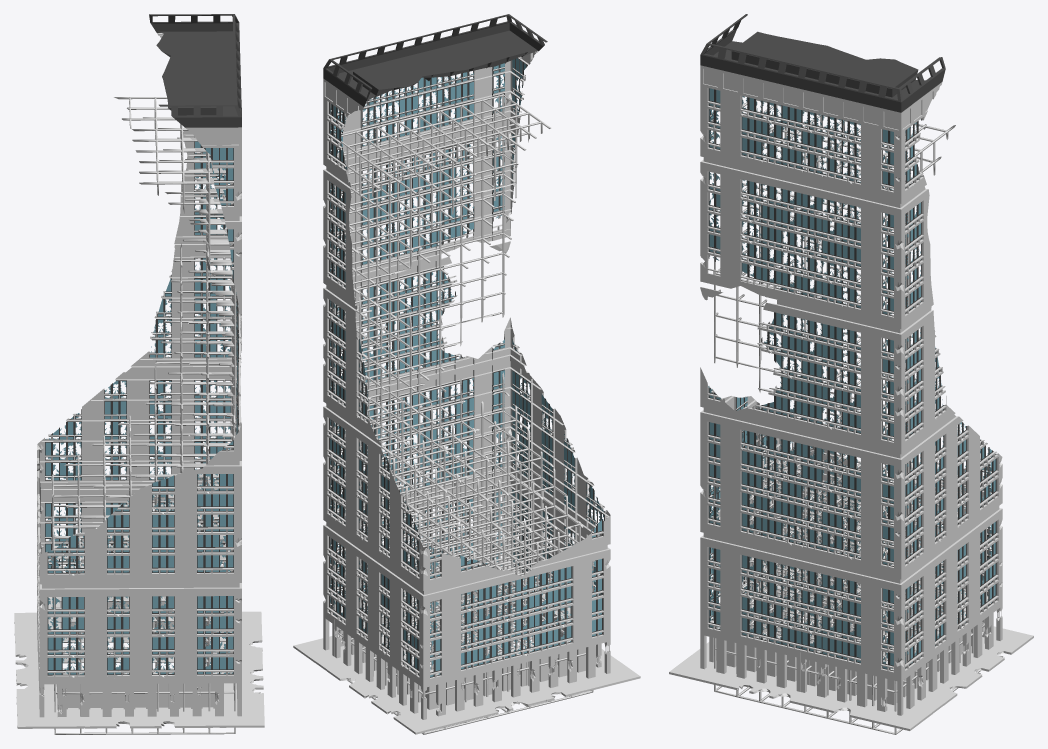
File: building4.fbx
3 renders of one model, left to right at view 1: azimuth 30°, elevation 25°; view 2: azimuth 150°, elevation 25°; view 3: azimuth 270°, elevation 25°, orthographic. The views are drawn at different scales.
Parts seen in each view (by area): view 1: Building #3 outer, Building #3 inner; view 2: Building #3 outer, Building #3 inner; view 3: Building #3 outer, Building #3 inner.
Boxes of the visible parts, left/top/right/bottom form: Building #3 outer: left=14, top=14, right=264, bottom=728; Building #3 inner: left=52, top=97, right=235, bottom=734; Building #3 outer: left=293, top=14, right=640, bottom=734; Building #3 inner: left=334, top=94, right=593, bottom=734; Building #3 outer: left=669, top=14, right=1033, bottom=730; Building #3 inner: left=714, top=99, right=986, bottom=734.
Size of the model in its own units: 92.79 by 186 by 95.09.
